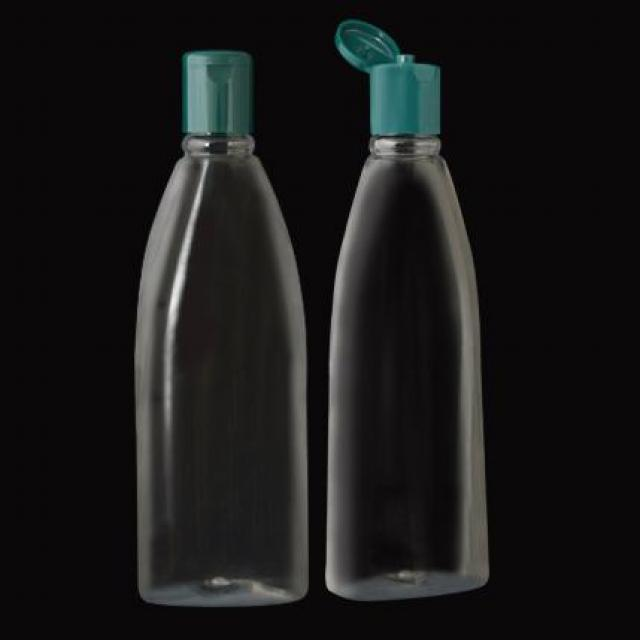plastic_bottle: (332, 66, 491, 583), (168, 67, 311, 608)
